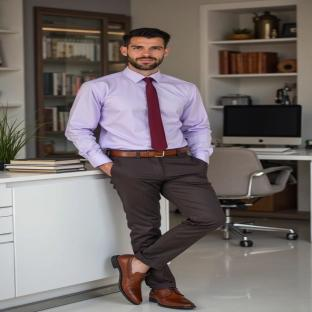Human: (66, 28, 225, 309)
